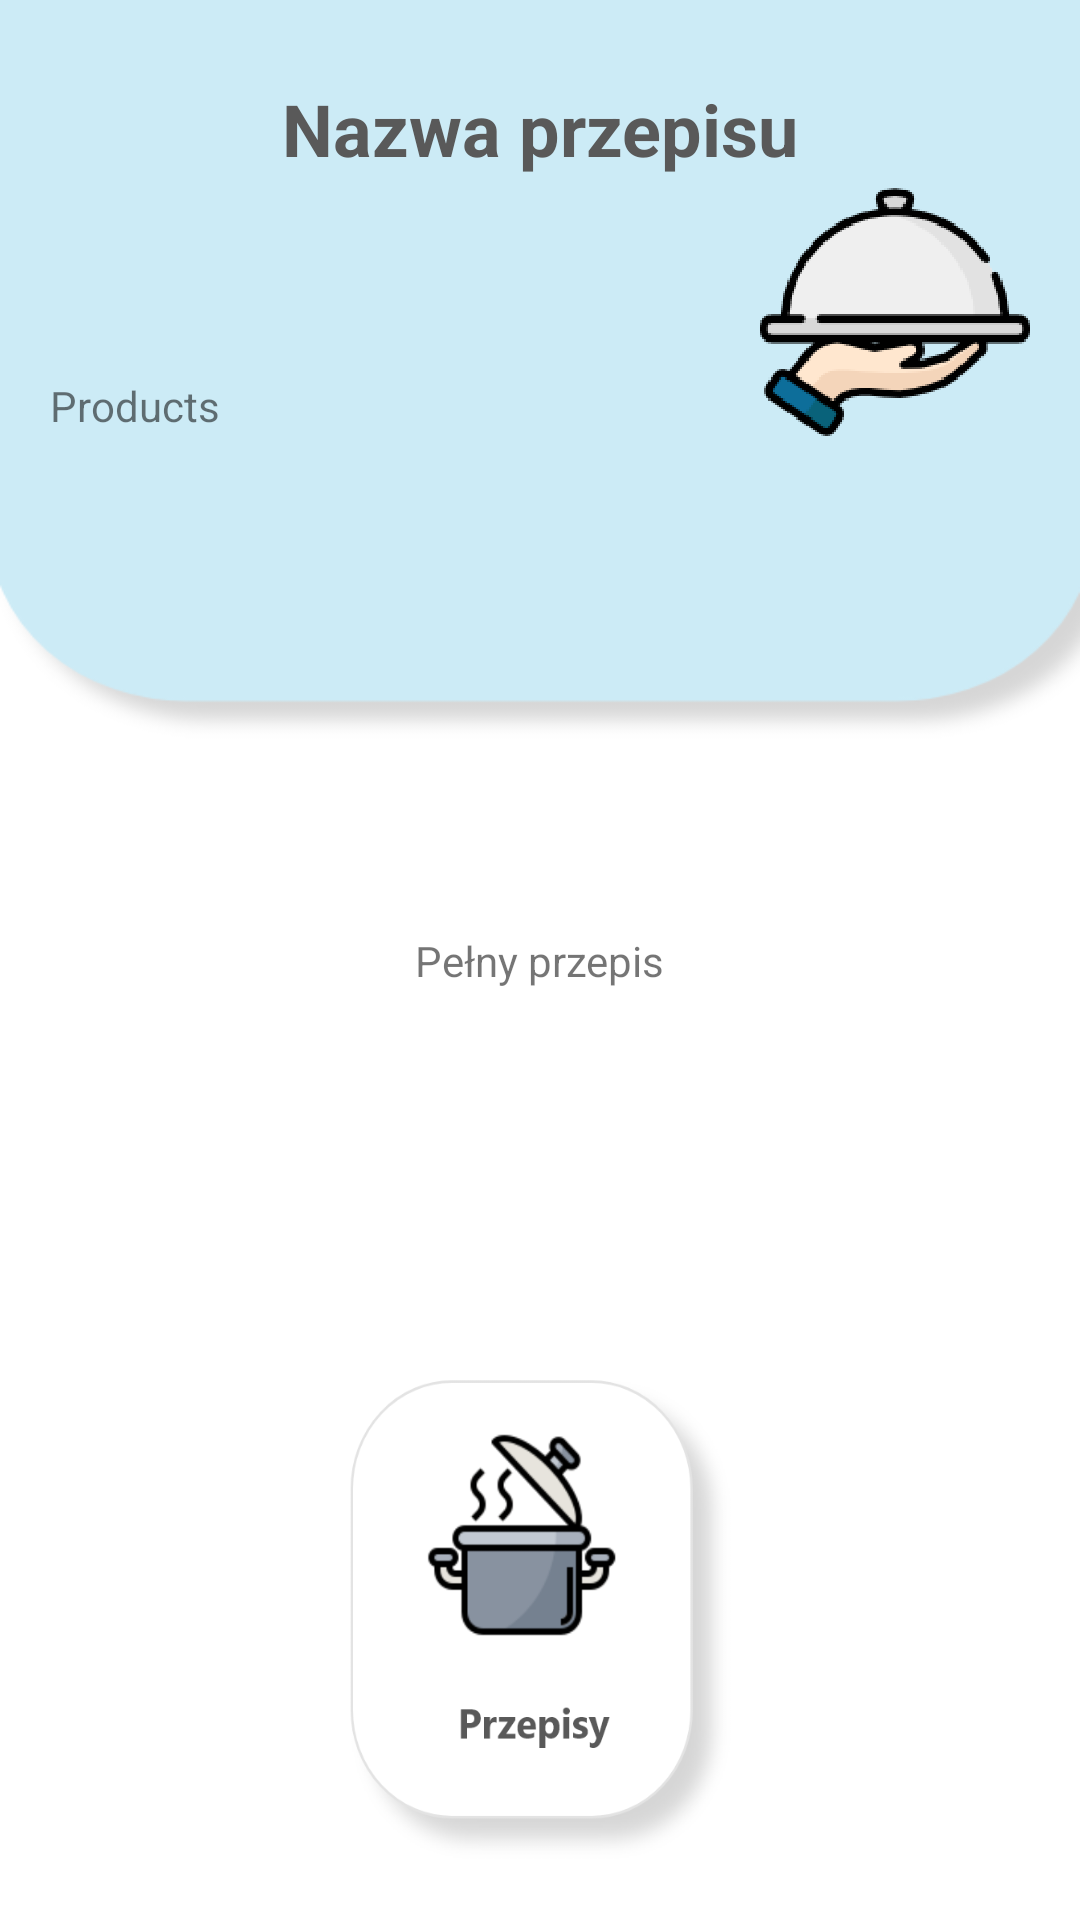

Screen size 1080w x 1920h. Icon name, then its box in pixels as [left=x1, top=y1, right=x2, bottom=y2]:
serving dish: [left=760, top=188, right=1030, bottom=436]
